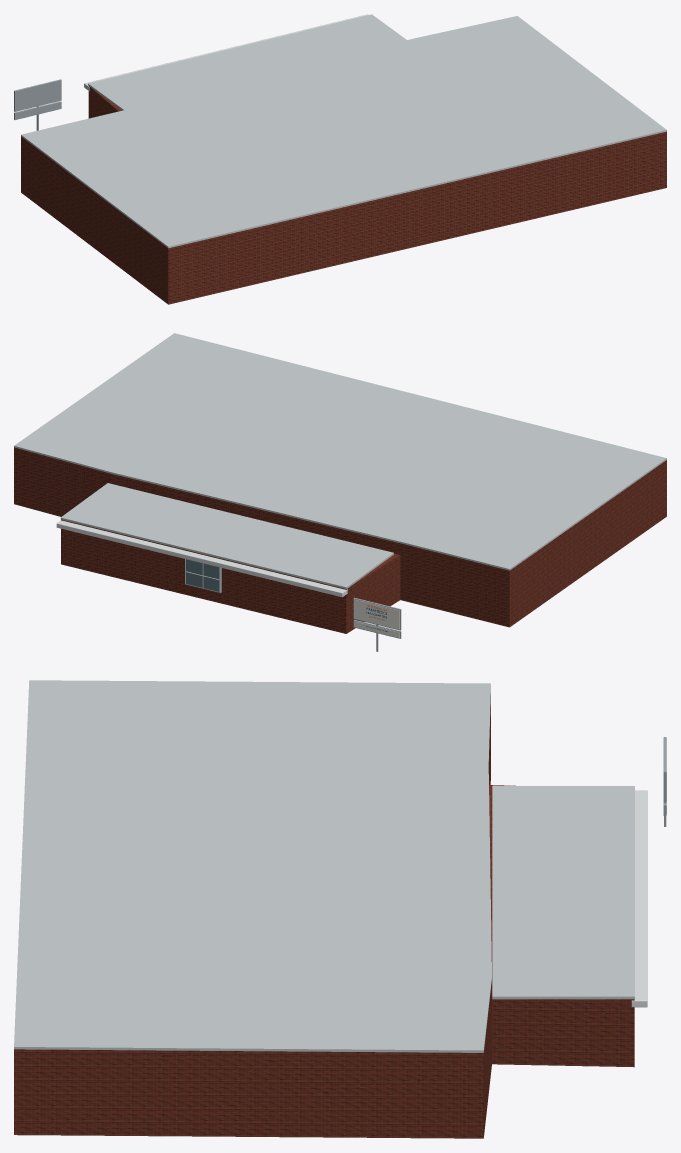
The model's file is ems-armour.glb.
3 renders of one model, top to bottom at view 1: azimuth 30°, elevation 25°; view 2: azimuth 150°, elevation 25°; view 3: azimuth 270°, elevation 25°, orthographic. The views are drawn at different scales.
Parts seen in each view (by area): view 1: EMS_Armour___light_membrane_roof, EMS_Armour___original_procedural_red_brick, EMS_Armour___roof_edge_and_sign_steel, EMS_Armour___pale_canopy_fascia; view 2: EMS_Armour___light_membrane_roof, EMS_Armour___original_procedural_red_brick, EMS_Armour___pale_canopy_fascia, EMS_Armour_sign___warm_white_enamel, EMS_Armour___reflective_entrance_glazing; view 3: EMS_Armour___light_membrane_roof, EMS_Armour___original_procedural_red_brick, EMS_Armour___pale_canopy_fascia.
Part boxes in pixels (x1=…): EMS_Armour___light_membrane_roof: x1=21, y1=14, x2=666, y2=248; EMS_Armour___original_procedural_red_brick: x1=21, y1=86, x2=666, y2=304; EMS_Armour___roof_edge_and_sign_steel: x1=14, y1=79, x2=61, y2=130; EMS_Armour___pale_canopy_fascia: x1=84, y1=14, x2=368, y2=91; EMS_Armour___light_membrane_roof: x1=14, y1=333, x2=666, y2=588; EMS_Armour___original_procedural_red_brick: x1=14, y1=447, x2=666, y2=633; EMS_Armour___pale_canopy_fascia: x1=56, y1=520, x2=347, y2=597; EMS_Armour_sign___warm_white_enamel: x1=354, y1=599, x2=399, y2=638; EMS_Armour___reflective_entrance_glazing: x1=186, y1=559, x2=219, y2=591; EMS_Armour___light_membrane_roof: x1=14, y1=680, x2=634, y2=1052; EMS_Armour___original_procedural_red_brick: x1=14, y1=695, x2=634, y2=1138; EMS_Armour___pale_canopy_fascia: x1=631, y1=790, x2=647, y2=1007.
Bounding box in the file's own units: 57.42 × 6.38 × 42.8.
9 materials, 1 textured.
